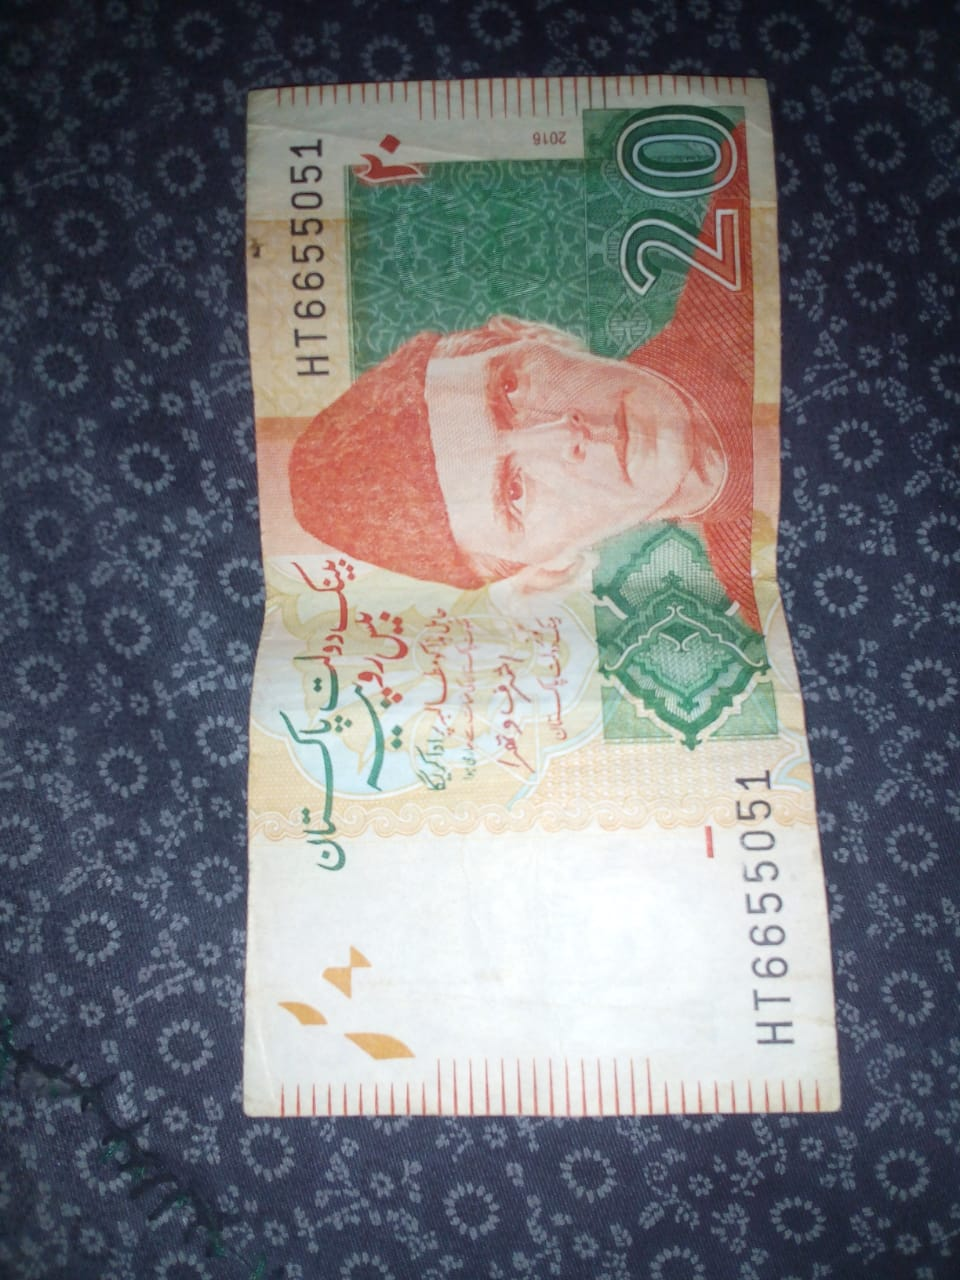20 rupee: (238, 82, 837, 1103)
